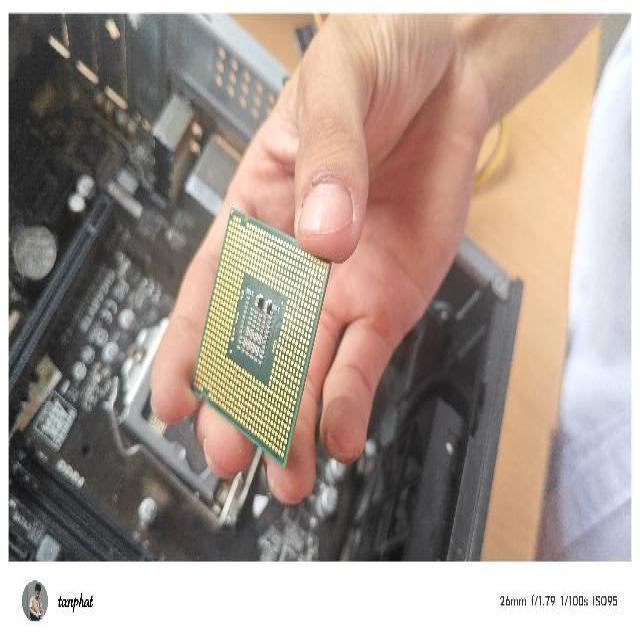CPU: (190, 200, 336, 468)
